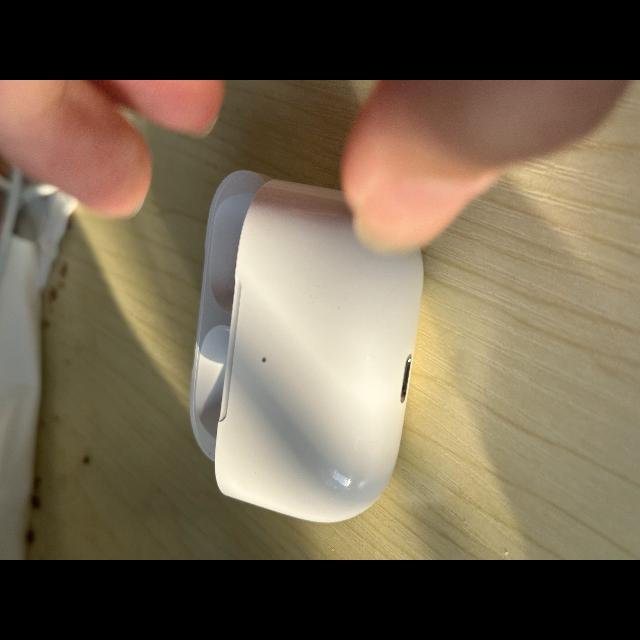AirPods Pro: (190, 170, 423, 523)
